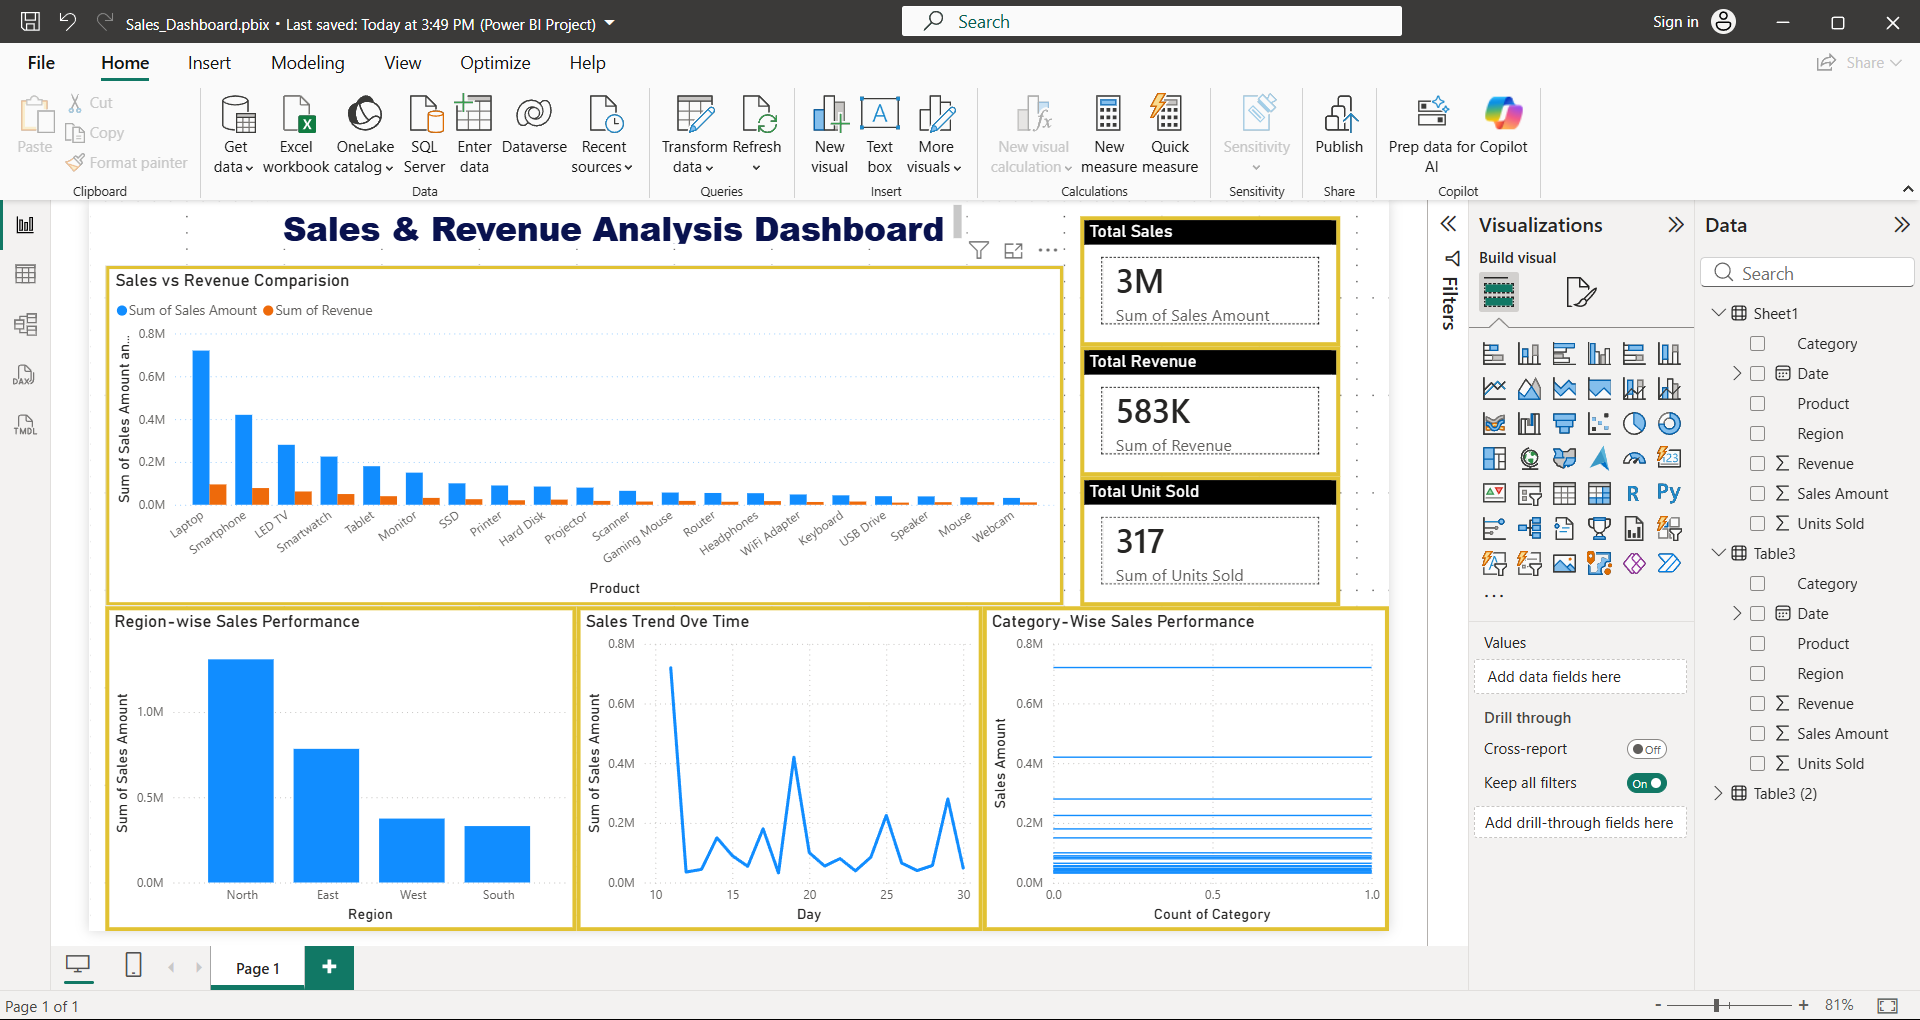

This screenshot's page, from the dashboard's own definition file:
{"tool":"powerbi","page":{"name":"Page 1","canvas":[1280,720],"ordinal":0},"visuals":[{"type":"clusteredColumnChart","title":"Sales vs Revenue Comparision","fields":{"Category":["Sheet1.Product"],"Y":["Sum(Sheet1.Sales Amount)","Sum(Sheet1.Revenue)"]},"box":[16,64,944,336],"z":0},{"type":"lineChart","title":"Sales Trend Ove Time","fields":{"Category":["Sheet1.Date.Variation.Date Hierarchy.Day"],"Y":["Sum(Sheet1.Sales Amount)"]},"box":[480,400,400,320],"z":1000},{"type":"clusteredBarChart","title":"Category-Wise Sales Performance","fields":{"Category":["Sheet1.Sales Amount"],"Y":["CountNonNull(Sheet1.Category)"]},"box":[880,400,400,320],"z":2000},{"type":"clusteredColumnChart","title":"Region-wise Sales Performance","fields":{"Category":["Sheet1.Region"],"Y":["Sum(Sheet1.Sales Amount)"]},"box":[16,400,464,320],"z":3000},{"type":"textbox","box":[176,0,688,48],"z":4000},{"type":"cardVisual","title":"Total Sales","fields":{"Data":["Sum(Sheet1.Sales Amount)"]},"box":[976,16,256,128],"z":5000},{"type":"cardVisual","title":"Total Revenue","fields":{"Data":["Sum(Sheet1.Revenue)"]},"box":[976,144,256,128],"z":5001},{"type":"cardVisual","title":"Total Unit Sold","fields":{"Data":["Sum(Sheet1.Units Sold)"]},"box":[976,272,256,128],"z":5002}]}

Visuals, with their boxes on the page's 1280x720 design canvas (x1, y1, x2, y2). These are canvas units, not pixel positions in the 1920x1020 screenshot, which may show the page scaled, cropped or inside an application window:
"Sales vs Revenue Comparision" clusteredColumnChart: bbox=(16, 64, 960, 400)
"Sales Trend Ove Time" lineChart: bbox=(480, 400, 880, 720)
"Category-Wise Sales Performance" clusteredBarChart: bbox=(880, 400, 1280, 720)
"Region-wise Sales Performance" clusteredColumnChart: bbox=(16, 400, 480, 720)
textbox: bbox=(176, 0, 864, 48)
"Total Sales" cardVisual: bbox=(976, 16, 1232, 144)
"Total Revenue" cardVisual: bbox=(976, 144, 1232, 272)
"Total Unit Sold" cardVisual: bbox=(976, 272, 1232, 400)
